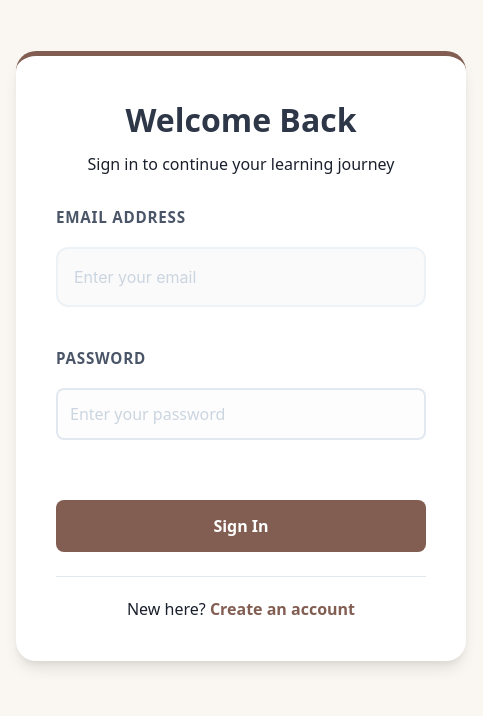
Login Flow › should show error on invalid credentials
The width and height of the screenshot is (483, 716).
Type "wrong@example.com" into the field with id "email" at (241, 277), box left=56, top=247, right=426, bottom=307
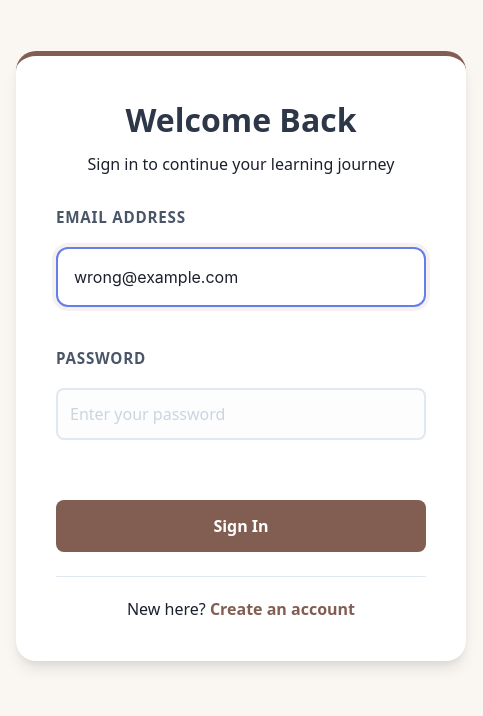
Type "wrongpassword" into the password field labelled "Password" at (241, 414), box left=56, top=388, right=426, bottom=440
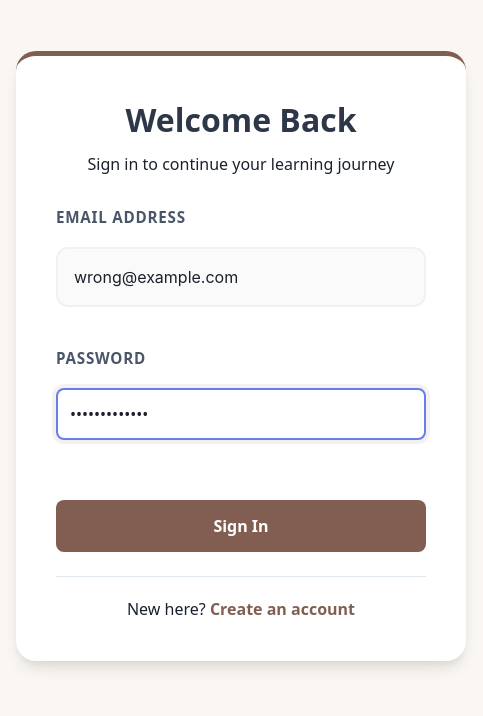
Click the button with class "login-button" at (241, 526), box left=56, top=500, right=426, bottom=552
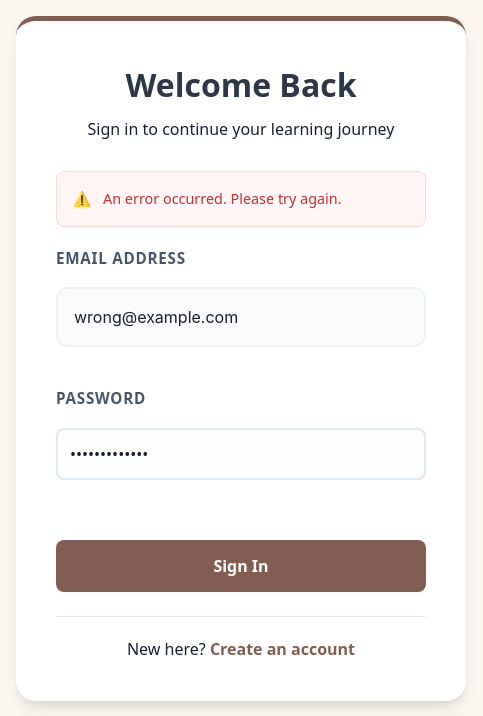
Expected: the element with class "error-message" is shown, left=56, top=171, right=426, bottom=227
